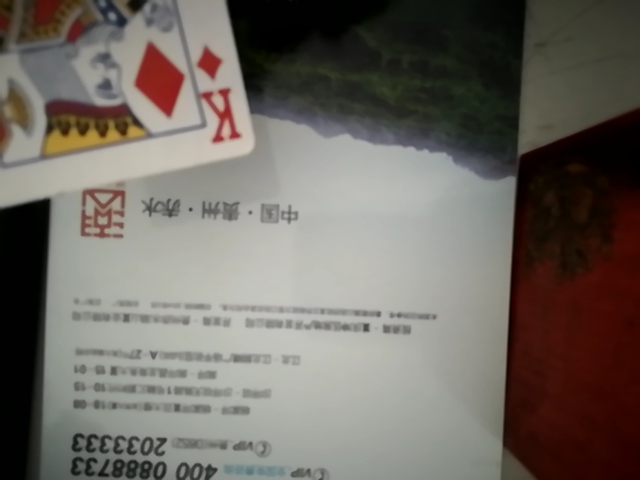fk k: (0, 0, 263, 228)
